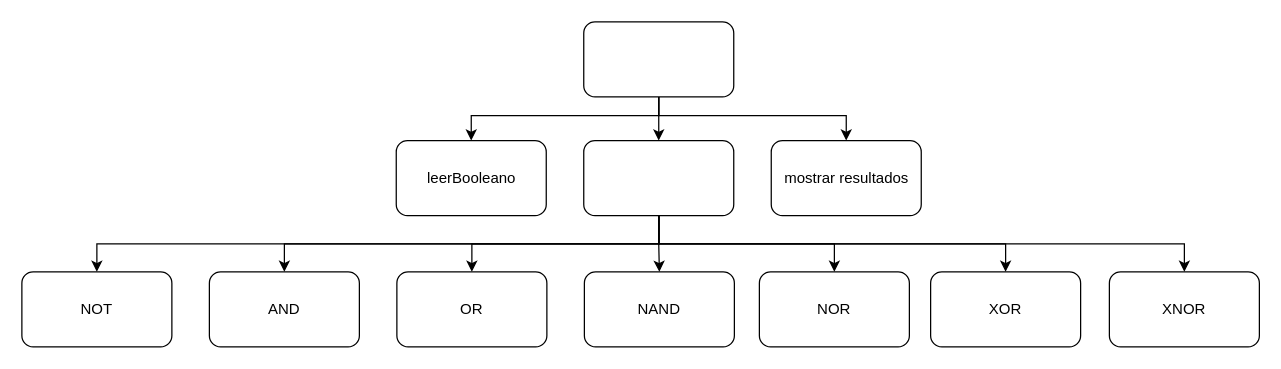
The diagram is 1281 pixels wide and 369 high, and some of its shapes have lost their labels. Here are the shapes that lost their labels. From the top down, the centre of each, then its label:
At (x=658, y=59): "main".
At (x=658, y=177): "menu".
